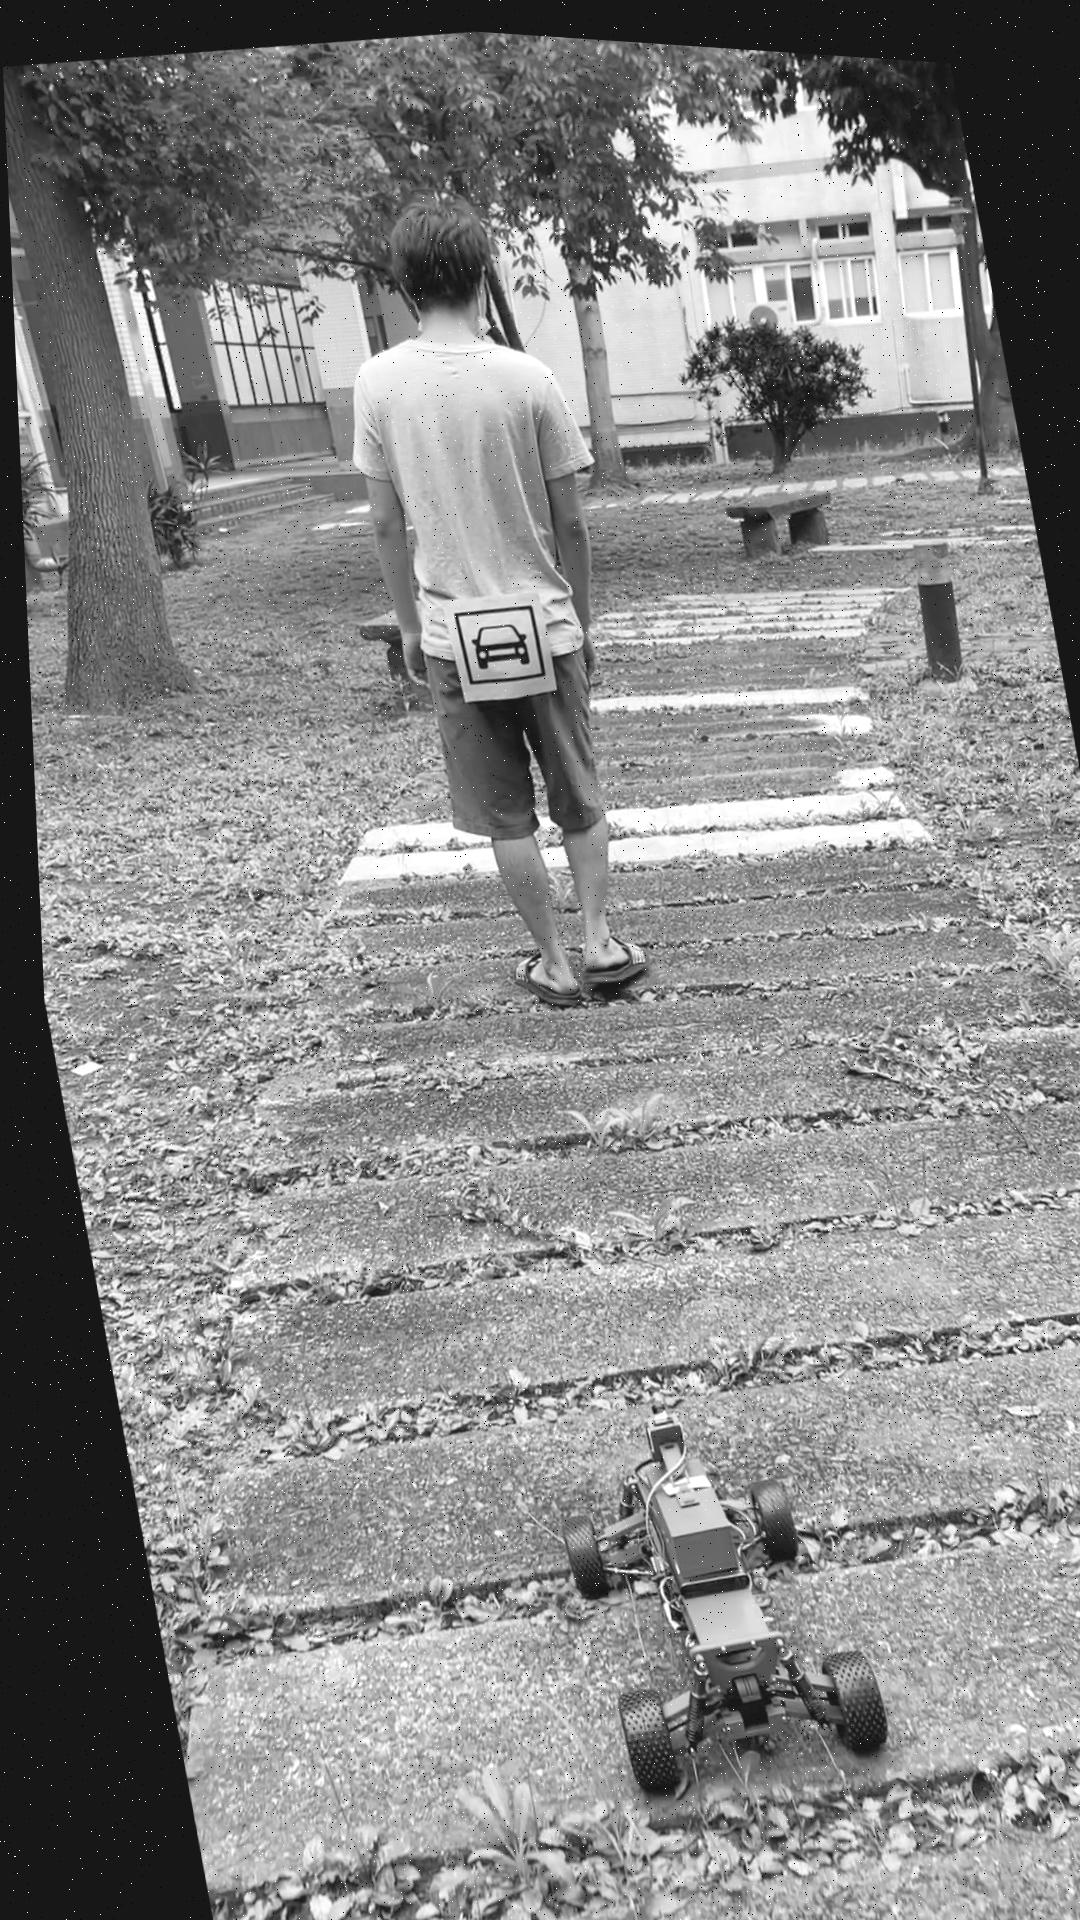car_img: (447, 593, 542, 683)
